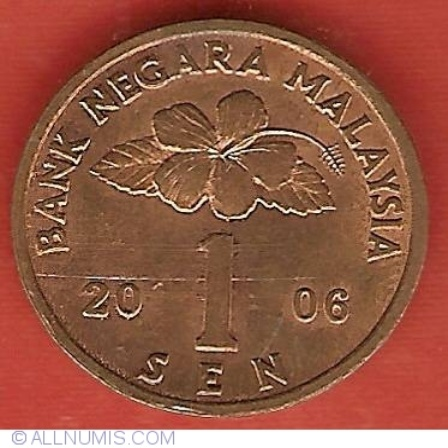1c: (10, 15, 434, 419)
